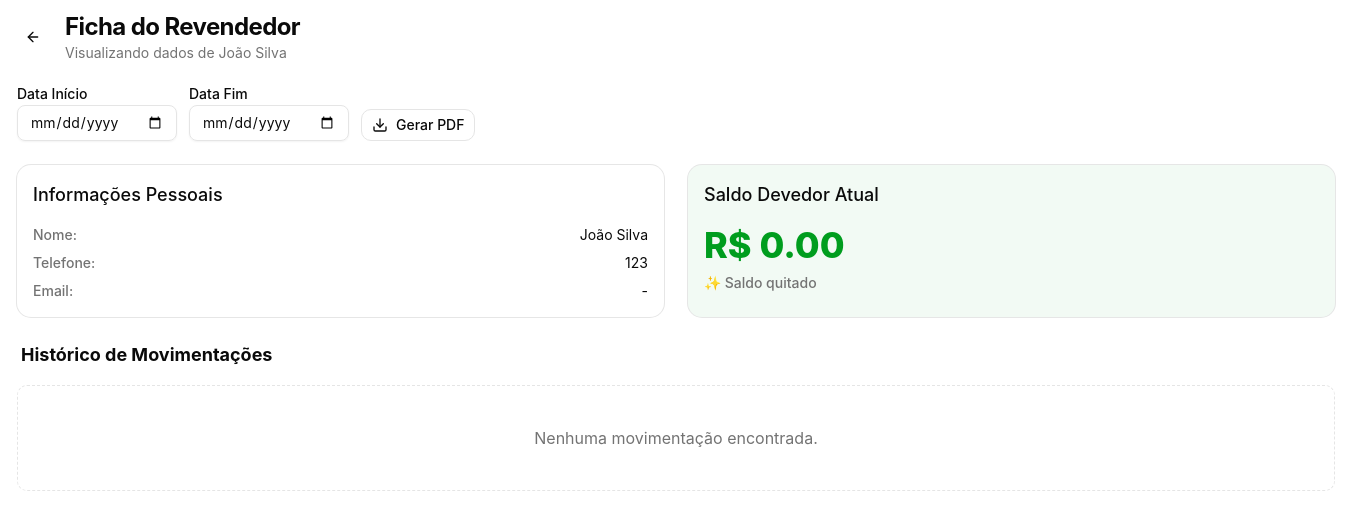
Test: ResellerDetailPage Calculation and Unit rendering › habilita o botão quando ambas as datas são preenchidas
Type "2025-01-01" into the date field labelled "Data Início". click: (97, 123)
box: x1=17 y1=105 x2=177 y2=141
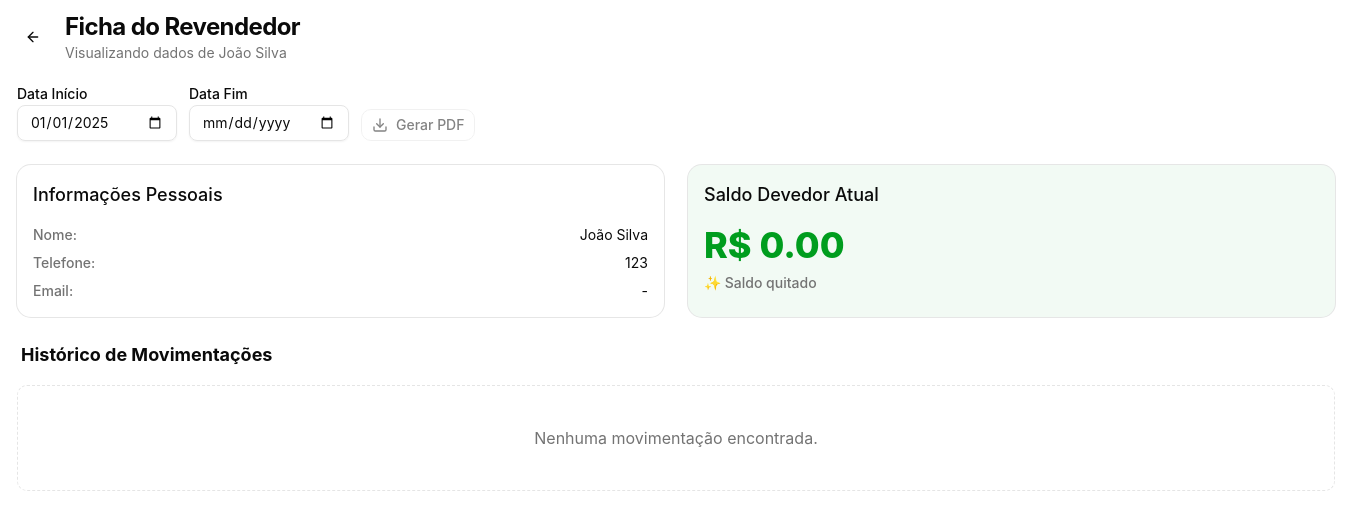
Type "2025-03-31" into the date field labelled "Data Fim". click: (269, 123)
box: x1=189 y1=105 x2=349 y2=141
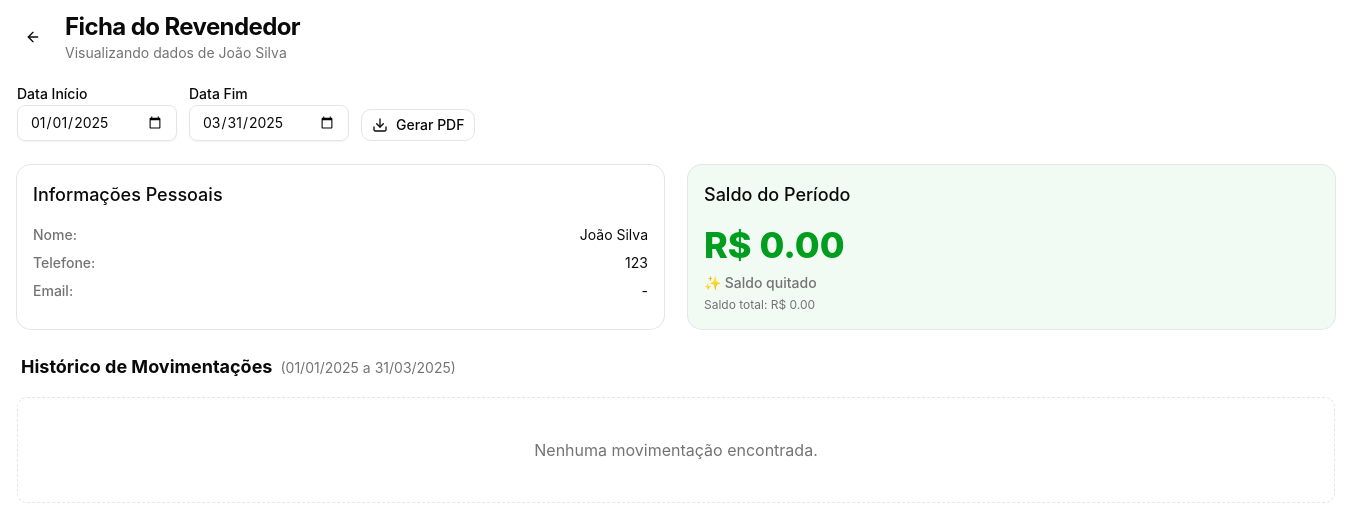
Expected: the button "Gerar PDF" is enabled, x1=361 y1=109 x2=476 y2=141
